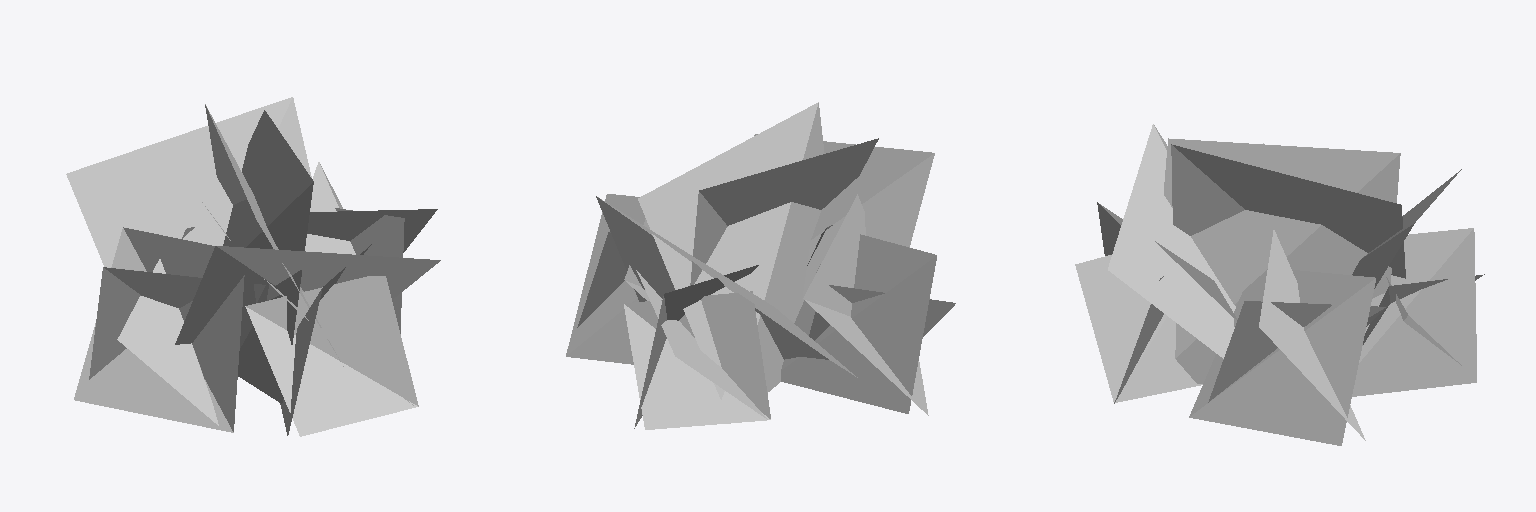
File: tundragrassobj04.obj
3 renders of one model, left to right at view 1: azimuth 30°, elevation 25°; view 2: azimuth 150°, elevation 25°; view 3: azimuth 270°, elevation 25°, orthographic.
Parts seen in each view (by area): view 1: TundraGrassObj04_0; view 2: TundraGrassObj04_0; view 3: TundraGrassObj04_0.
Part boxes in pixels (bbox=[...]): TundraGrassObj04_0: bbox=[66, 97, 440, 436]; TundraGrassObj04_0: bbox=[566, 102, 955, 429]; TundraGrassObj04_0: bbox=[1075, 124, 1484, 445].
Bounding box in the file's own units: 57.35 × 36.21 × 59.32.